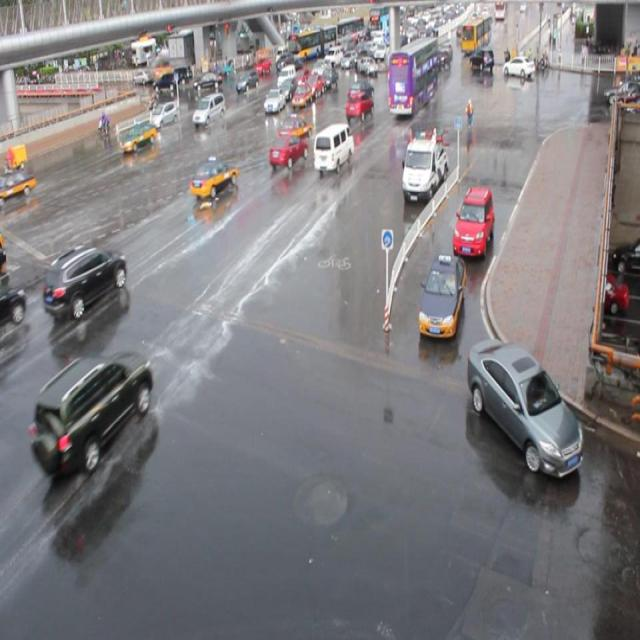bus: (401, 132, 446, 202)
car: (465, 338, 582, 476), (29, 346, 153, 474), (42, 240, 127, 318), (417, 252, 465, 336), (452, 184, 494, 257), (190, 156, 238, 198), (1, 279, 28, 333), (1, 168, 36, 208), (268, 133, 307, 168), (120, 121, 156, 152), (192, 92, 225, 125), (277, 112, 311, 143), (344, 91, 373, 120), (150, 100, 179, 129), (346, 79, 373, 105), (234, 68, 258, 93), (264, 89, 286, 114), (292, 84, 312, 109), (306, 73, 324, 96), (279, 78, 297, 100), (293, 69, 310, 90)
truck: (313, 122, 354, 174), (277, 65, 295, 88)
van: (386, 36, 436, 116)
